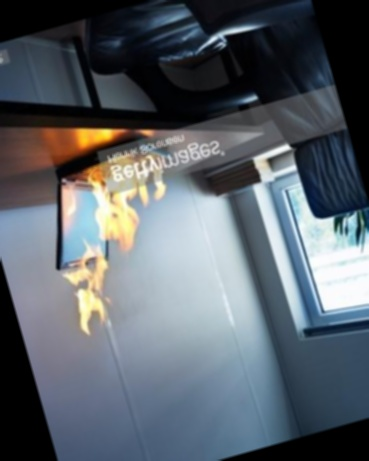fire: (21, 123, 218, 345)
